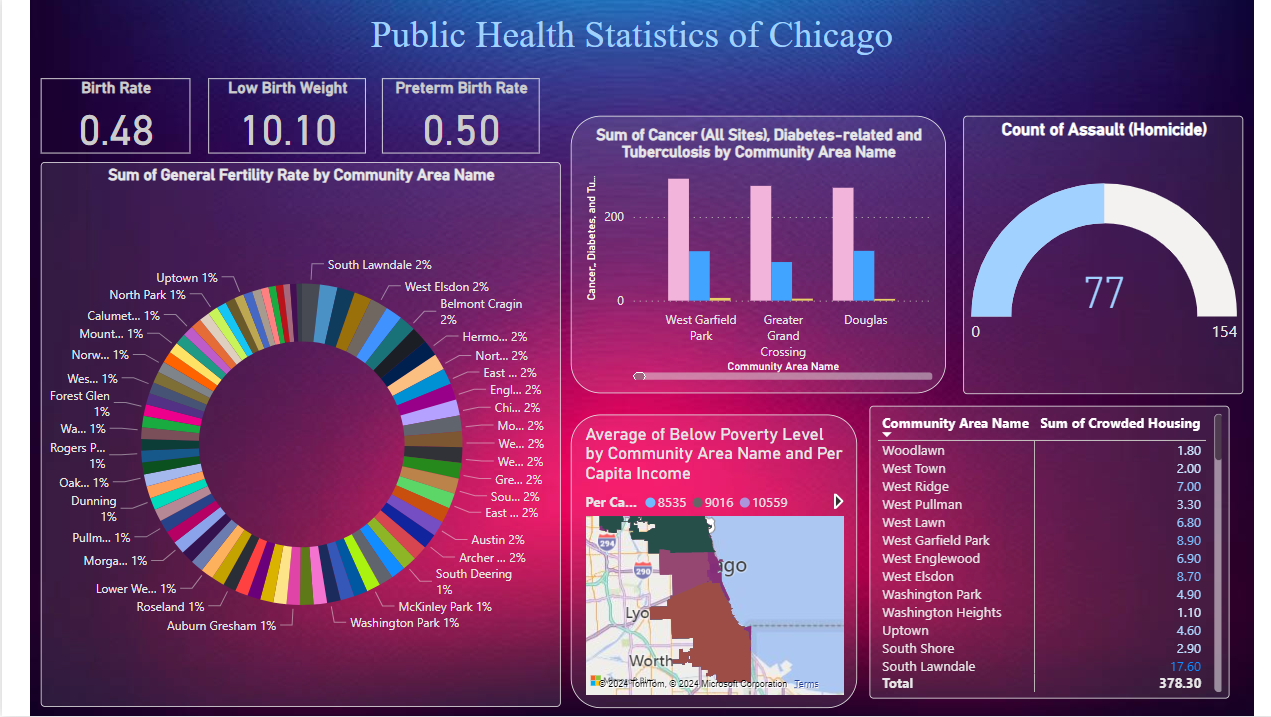

Layout of this report page (visuals, bound fields, positions):
{"tool":"powerbi","page":{"name":"Page 1","canvas":[1280,720],"ordinal":0},"visuals":[{"type":"card","title":"Birth Rate","fields":{"Values":["Avg(df_Healthcare.Birth Rate)"]},"box":[38.4,80.9,149.4,75.4],"z":0},{"type":"card","title":"Low Birth Weight","fields":{"Values":["Avg(df_Healthcare.Low Birth Weight)"]},"box":[205.7,80.9,157.7,75.4],"z":1000},{"type":"card","title":"Preterm Birth Rate","fields":{"Values":["Avg(df_Healthcare.Preterm Births)"]},"box":[379.8,80.9,157.7,75.4],"z":2000},{"type":"donutChart","fields":{"Category":["df_Healthcare.Community Area Name"],"Y":["Sum(df_Healthcare.General Fertility Rate)"]},"box":[38.8,165,520,545],"z":3000},{"type":"clusteredColumnChart","title":"Sum of Cancer (All Sites), Diabetes-related and Tuberculosis by Community Area Name","fields":{"Category":["df_Healthcare.Community Area Name"],"Y":["Sum(df_Healthcare.Cancer (All Sites))","Sum(df_Healthcare.Diabetes-related)","Sum(df_Healthcare.Tuberculosis)"]},"box":[568.8,118.8,375,277.5],"z":4000},{"type":"filledMap","fields":{"Category":["df_Healthcare.Community Area Name"],"Series":["df_Healthcare.Per Capita Income"],"Y":["Avg(df_Healthcare.Below Poverty Level)"]},"box":[568.8,417.5,286.2,293.8],"z":5000},{"type":"pivotTable","fields":{"Rows":["df_Healthcare.Community Area Name"],"Values":["Sum(df_Healthcare.Crowded Housing)"]},"box":[867.5,408.8,360,292.5],"z":6000},{"type":"gauge","fields":{"Y":["CountNonNull(df_Healthcare.Assault (Homicide))"]},"box":[961.2,118.8,280,278.8],"z":7000},{"type":"textbox","box":[363.8,11.2,582.5,56.2],"z":7001}]}

Visuals, with their boxes in screenshot pixels (x1, y1, x2, y2), scaled from the page's 1280x720 canvas onto the 1271x717 screenshot:
"Birth Rate" card: 38 81 186 156
"Low Birth Weight" card: 204 81 361 156
"Preterm Birth Rate" card: 377 81 534 156
donutChart - df_Healthcare.Community Area Name x Sum(df_Healthcare.General Fertility Rate): 39 164 555 707
"Sum of Cancer (All Sites), Diabetes-related and Tuberculosis by Community Area Name" clusteredColumnChart: 565 118 937 395
filledMap - df_Healthcare.Community Area Name x df_Healthcare.Per Capita Income: 565 416 849 708
pivotTable - df_Healthcare.Community Area Name x Sum(df_Healthcare.Crowded Housing): 861 407 1219 698
gauge - CountNonNull(df_Healthcare.Assault (Homicide)): 954 118 1232 396
textbox: 361 11 940 67
